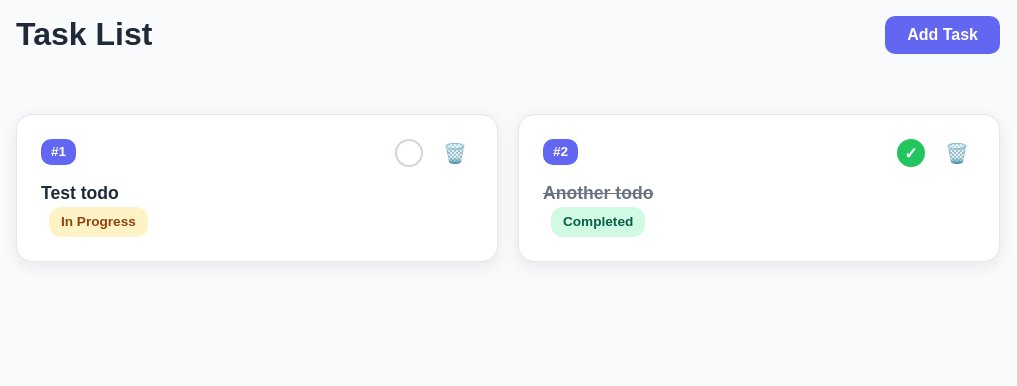
Test case: TaskList › can open add form
Click the button "Add Task" at (943, 35), box [885,16,1000,54]
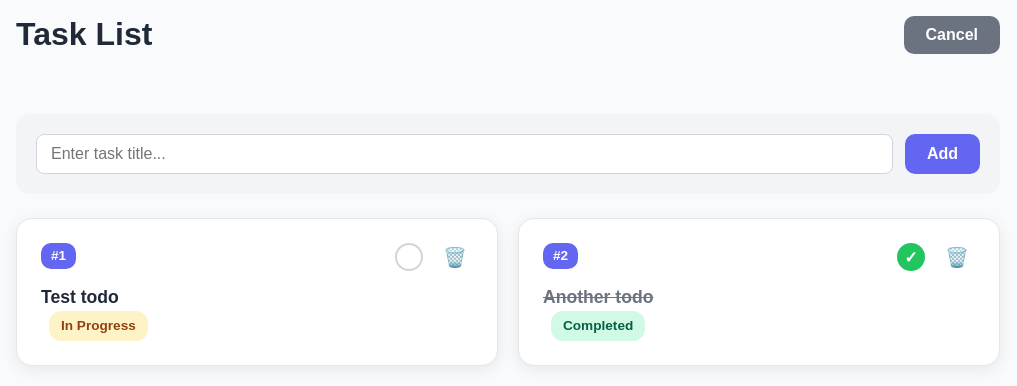
Check: the field with placeholder "Enter task title..." is shown, box [36,134,893,174]
